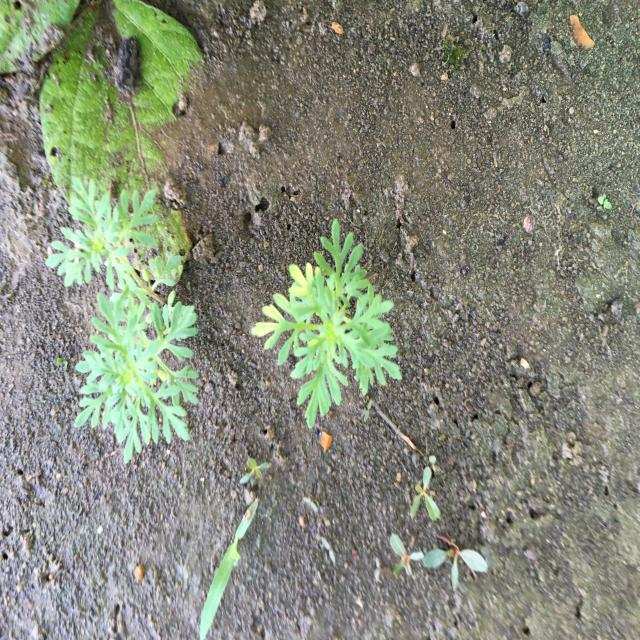Ragweed: (43, 175, 202, 468), (247, 218, 404, 430)
